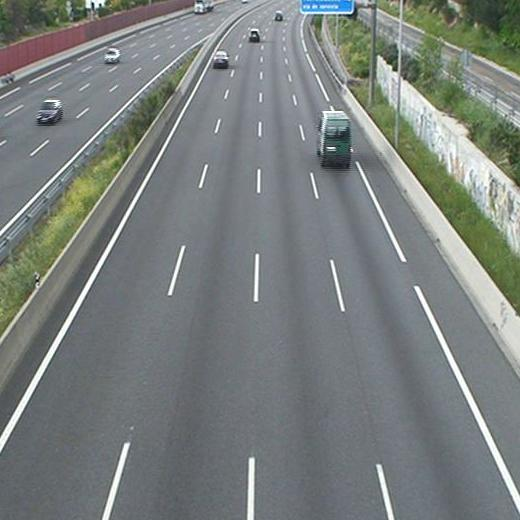car: (212, 51, 229, 68), (248, 28, 261, 43)
van: (317, 110, 353, 169)
